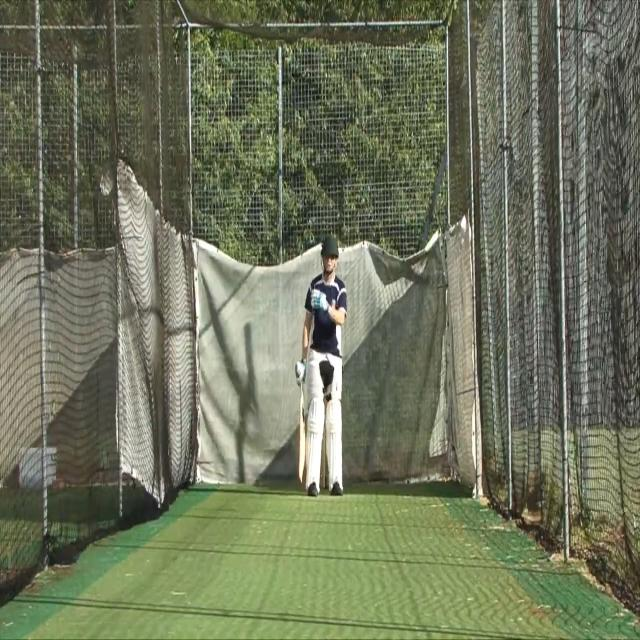batsman: (294, 232, 348, 498)
